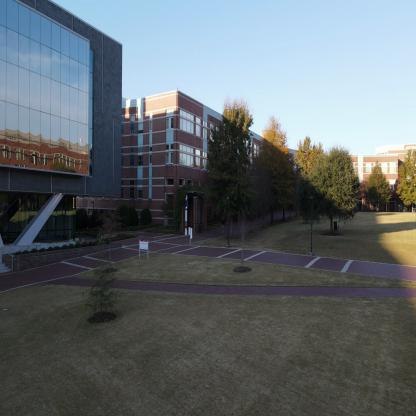EB-1: (135, 72, 298, 258)
Fitts- Woolard: (0, 0, 132, 305)
